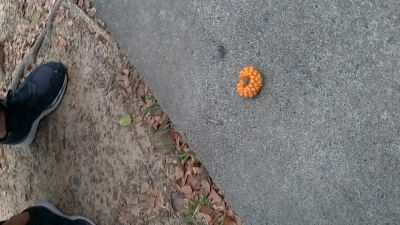eggs: (236, 65, 264, 98)
